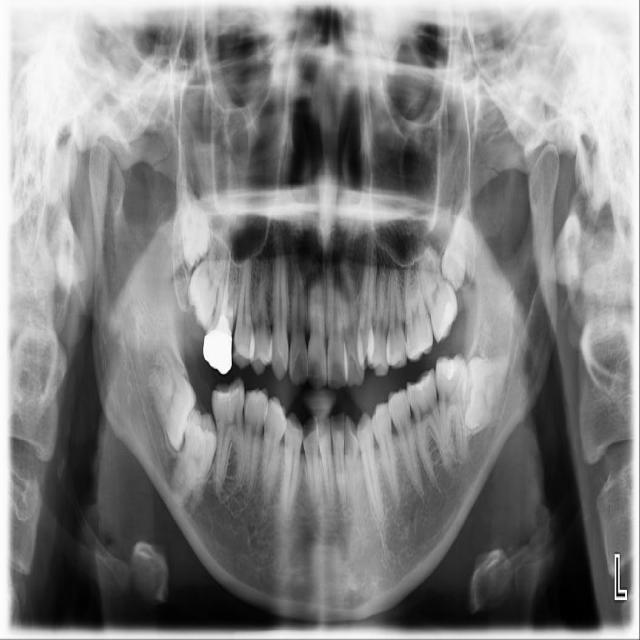Crown: (203, 318, 233, 375)
Filling: (437, 356, 465, 381), (215, 389, 242, 414)
Root Canal Treatment: (224, 266, 228, 309)
impacted tooth: (135, 349, 194, 449), (188, 218, 228, 335), (171, 412, 215, 518), (465, 352, 517, 425), (178, 167, 211, 267), (442, 189, 469, 287)
